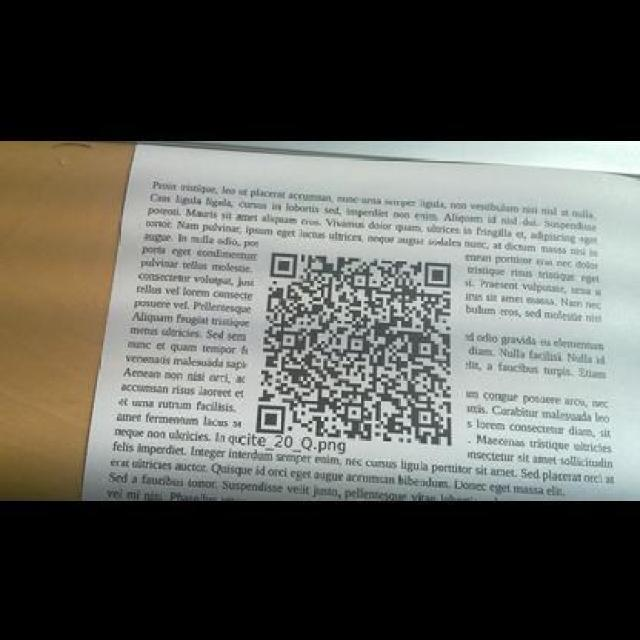QRCode: (253, 237, 462, 455)
